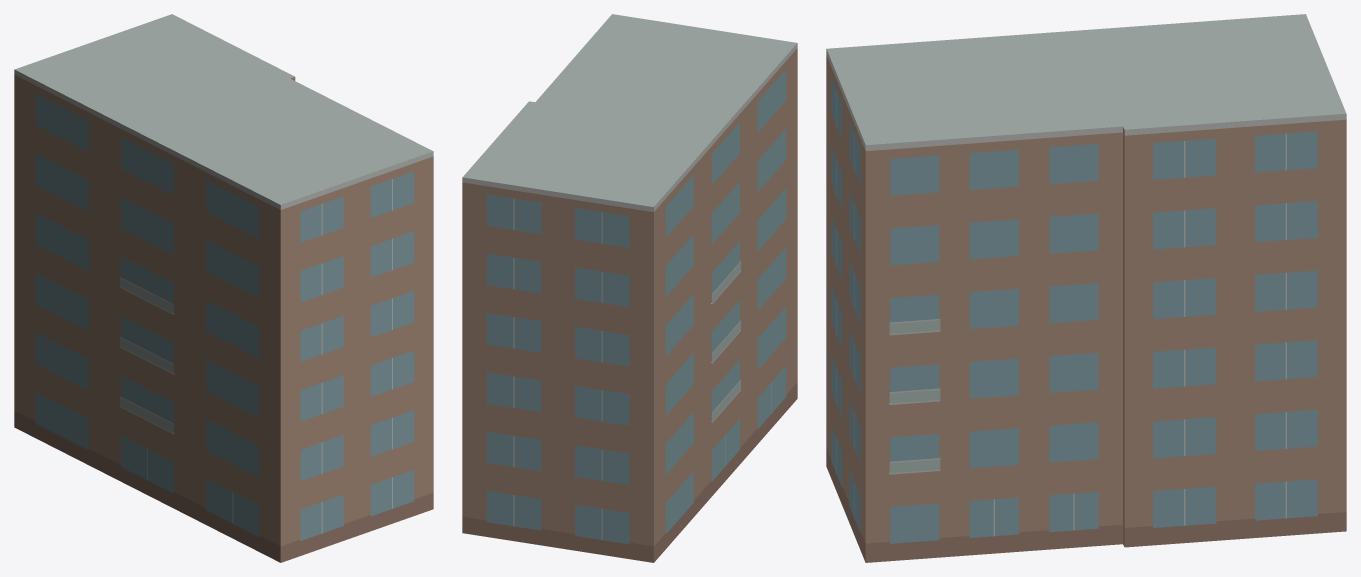
The model's file is survey-upis-32706995.glb.
3 renders of one model, left to right at view 1: azimuth 30°, elevation 25°; view 2: azimuth 150°, elevation 25°; view 3: azimuth 270°, elevation 25°, orthographic. The views are drawn at different scales.
Parts seen in each view (by area): view 1: survey-upis-32706995.tmp; view 2: survey-upis-32706995.tmp; view 3: survey-upis-32706995.tmp.
Part boxes in pixels (bbox=[...]): survey-upis-32706995.tmp: bbox=[14, 14, 433, 562]; survey-upis-32706995.tmp: bbox=[462, 14, 797, 562]; survey-upis-32706995.tmp: bbox=[826, 14, 1346, 562].
Size of the model in its own units: 11.61 by 17.2 by 19.43.
